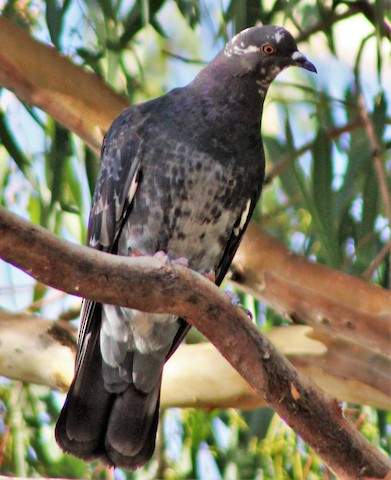pigeon: (40, 17, 328, 471)
